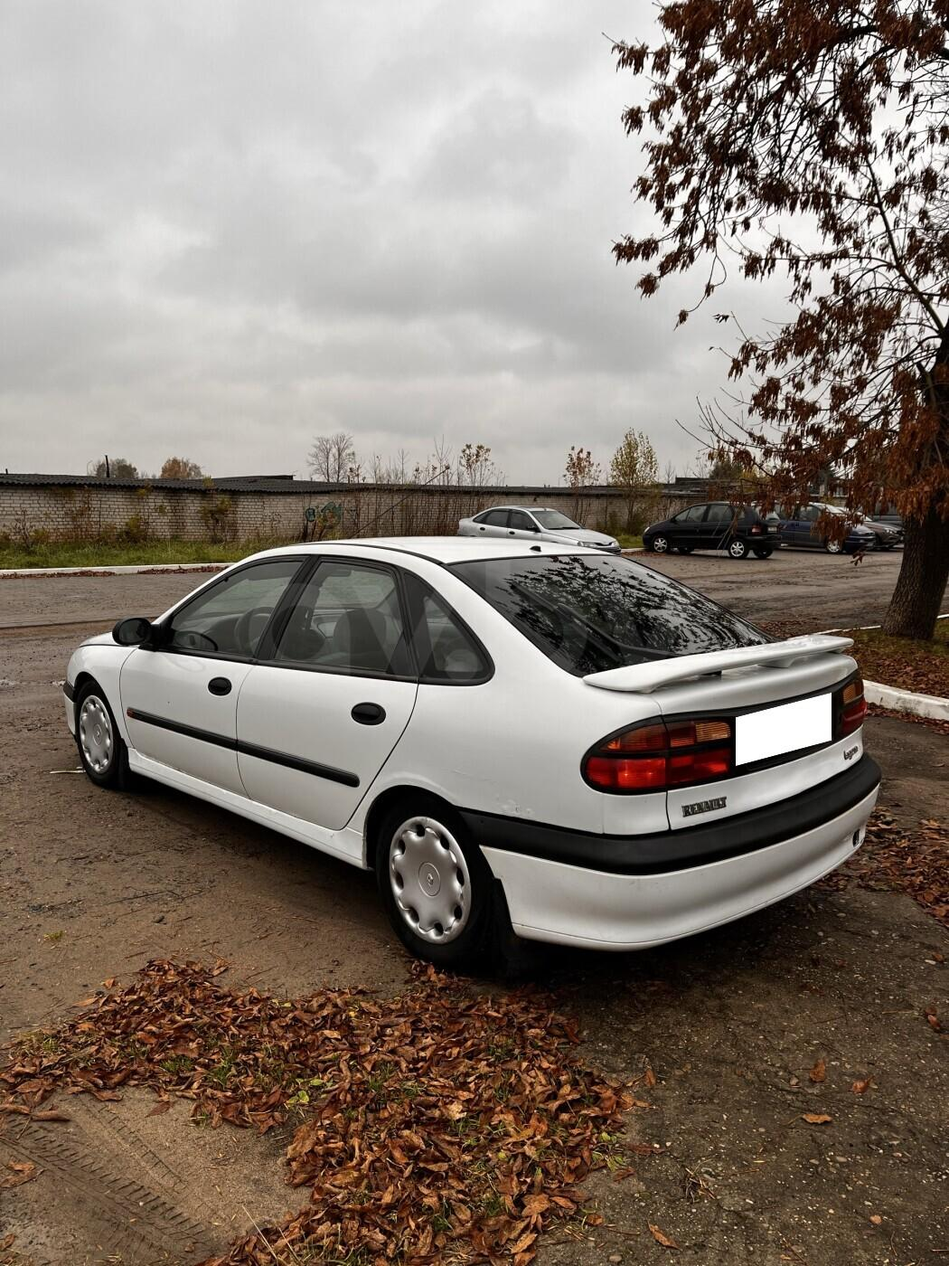Laguna_1998-2001: (61, 526, 880, 1000)
